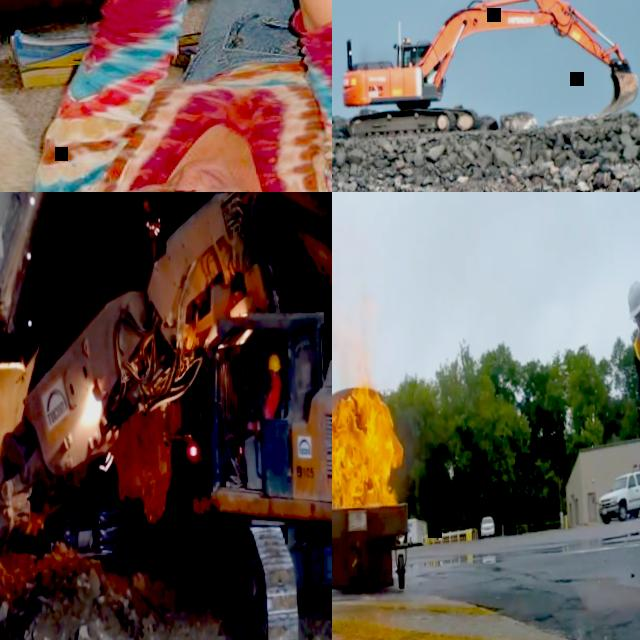Hardhat: (625, 281, 640, 320), (267, 354, 281, 372)
NO-Mask: (166, 154, 239, 183), (271, 374, 275, 383)
NO-Safety Vest: (148, 55, 321, 185)
Person: (19, 0, 332, 192), (623, 279, 640, 446)
Safety Vest: (631, 313, 640, 408), (265, 380, 283, 419)
vehicle: (0, 192, 332, 640), (340, 0, 640, 140), (596, 468, 640, 526), (480, 517, 497, 539), (397, 530, 412, 548)
